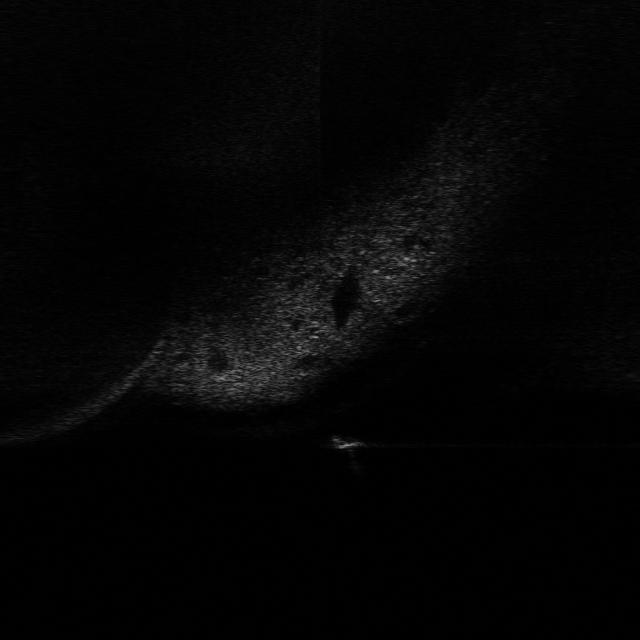cube: (318, 430, 368, 453)
